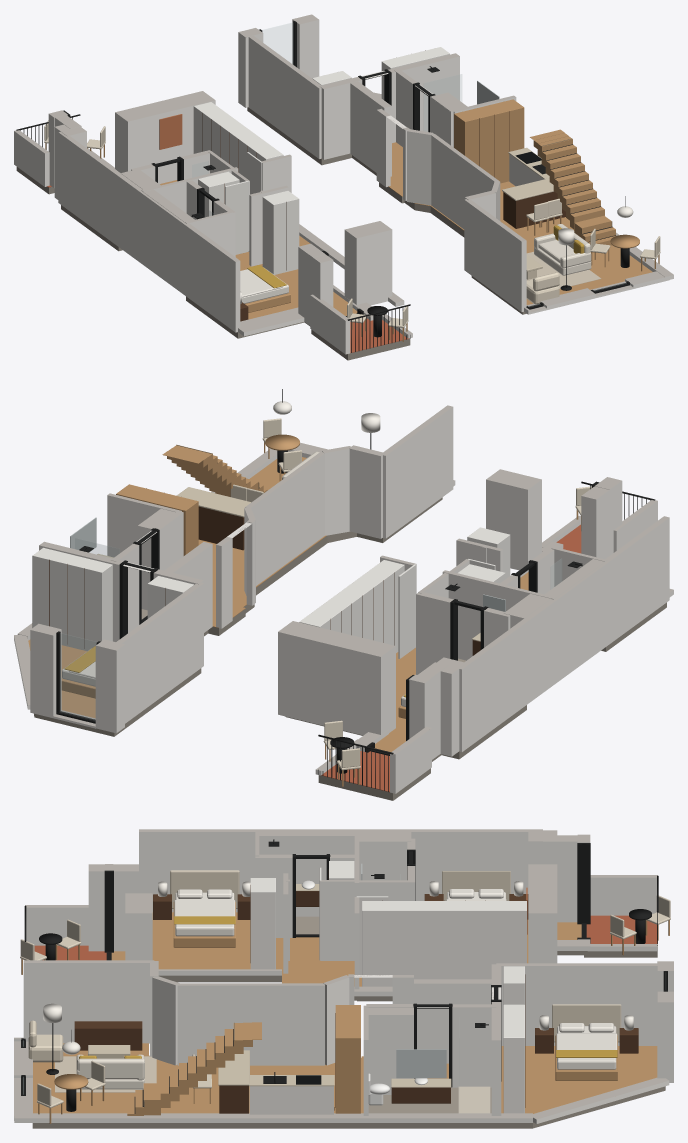
3 renders of one model, top to bottom at view 1: azimuth 30°, elevation 25°; view 2: azimuth 150°, elevation 25°; view 3: azimuth 270°, elevation 25°, orthographic. The views are drawn at different scales.
Parts seen in each view (by area): view 1: Wall W-4, Wall W-bed1, Wall N-eaves.001, Wall W-living, Kitchen tall units | body, Wall S-eaves.001, Wall stairwell-2, bed2 wardrobe 19 | body, bed3 wardrobe 30 | body, Floor | living, Wall lift-E, Wall bed1-S.001 (+39 smaller); view 2: Wall W-4, Wall N-eaves.001, Wall W-bed1, bed1 wardrobe 2 | body, Wall W-living, Wall stairwell-2, bed2 wardrobe 19 | body, Wall S-eaves.001, Wall stairwell-4, N-facade window 0 | glazing, Wall mid-4, Wall N-facade (+38 smaller); view 3: bed2 wardrobe 19 | body, Wall W-4, Wall stairwell-2, Wall W-living, Wall W-bed1, Floor | living, Wall E-party, Floor | bed1, Floor | bed3, Wall lift-E, Wall mass-ens3, Wall bath1-W (+73 smaller).
Boxes of the visible parts, x1=… form: Wall W-4: x1=58, y1=132, x2=240, y2=332; Wall W-bed1: x1=248, y1=35, x2=321, y2=158; Wall N-eaves.001: x1=115, y1=91, x2=215, y2=183; Wall W-living: x1=464, y1=199, x2=526, y2=311; Kitchen tall units | body: x1=454, y1=99, x2=524, y2=183; Wall S-eaves.001: x1=344, y1=221, x2=392, y2=305; Wall stairwell-2: x1=431, y1=134, x2=499, y2=229; bed2 wardrobe 19 | body: x1=193, y1=102, x2=283, y2=178; bed3 wardrobe 30 | body: x1=262, y1=191, x2=299, y2=274; Floor | living: x1=414, y1=181, x2=652, y2=304; Wall lift-E: x1=350, y1=81, x2=391, y2=176; Wall bed1-S.001: x1=388, y1=53, x2=459, y2=142; Wall W-4: x1=459, y1=516, x2=669, y2=751; Wall N-eaves.001: x1=278, y1=621, x2=395, y2=735; Wall W-bed1: x1=116, y1=582, x2=203, y2=723; bed1 wardrobe 2 | body: x1=32, y1=547, x2=112, y2=651; Wall W-living: x1=383, y1=405, x2=453, y2=538; Wall stairwell-2: x1=245, y1=452, x2=324, y2=585; bed2 wardrobe 19 | body: x1=299, y1=560, x2=404, y2=652; Wall S-eaves.001: x1=486, y1=469, x2=541, y2=570; Wall stairwell-4: x1=349, y1=445, x2=385, y2=538; N-facade window 0 | glazing: x1=60, y1=633, x2=96, y2=720; Wall mid-4: x1=442, y1=570, x2=555, y2=660; Wall N-facade: x1=95, y1=639, x2=124, y2=733; bed2 wardrobe 19 | body: x1=362, y1=901, x2=526, y2=986; Wall W-4: x1=139, y1=829, x2=542, y2=912; Wall stairwell-2: x1=177, y1=983, x2=324, y2=1065; Wall W-living: x1=23, y1=960, x2=154, y2=1043; Wall W-bed1: x1=496, y1=963, x2=657, y2=1045; Floor | living: x1=33, y1=1043, x2=363, y2=1113; Wall E-party: x1=14, y1=1113, x2=532, y2=1122; Floor | bed1: x1=501, y1=1046, x2=657, y2=1113; Floor | bed3: x1=111, y1=912, x2=283, y2=973; Wall lift-E: x1=414, y1=979, x2=491, y2=1063; Wall mass-ens3: x1=259, y1=830, x2=354, y2=916; Wall bath1-W: x1=452, y1=1004, x2=496, y2=1087.
Bounding box in the file's own units: 12.01 × 2.33 × 15.6.
